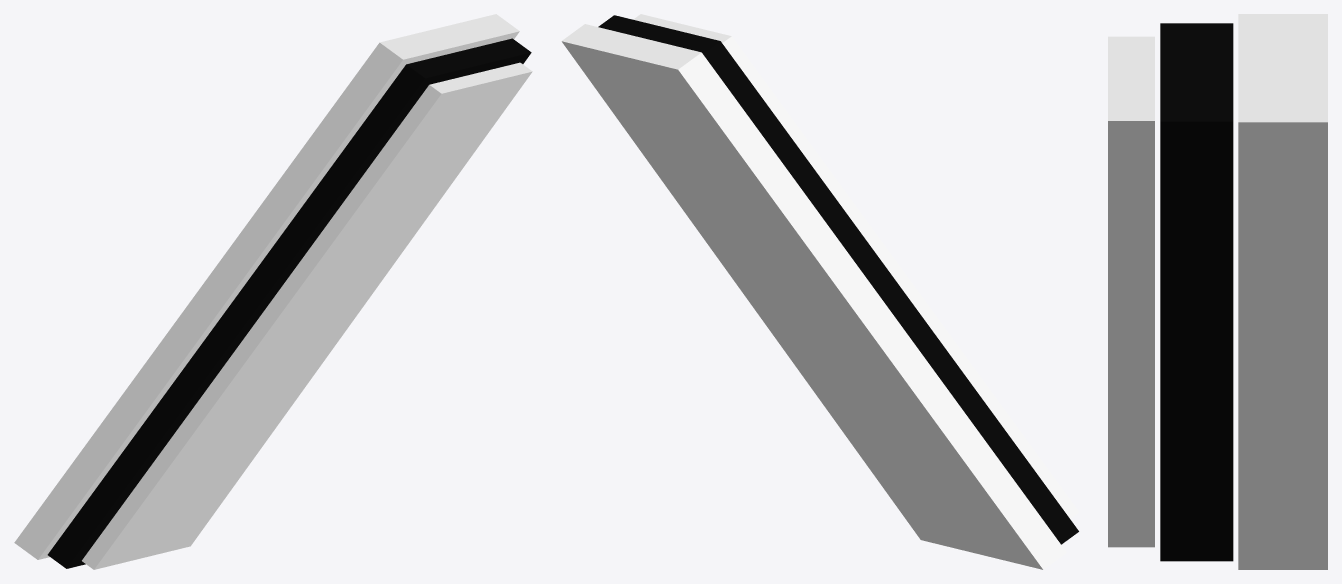
Rendered from slash.obj.
The picture shows the model from 3 angles, left to right: view 1: azimuth 30°, elevation 25°; view 2: azimuth 150°, elevation 25°; view 3: azimuth 270°, elevation 25°; orthographic projection. The views are drawn at different scales.
Parts seen in each view (by area): view 1: 平面.001; view 2: 平面.001; view 3: 平面.001.
Part boxes in pixels (x1,y1,x2,y2): 平面.001: (14, 14, 532, 569); 平面.001: (561, 14, 1079, 569); 平面.001: (1108, 14, 1327, 569).
Size of the model in its own units: 1.22 by 0.9929 by 0.2535.
1 material, 1 textured.
